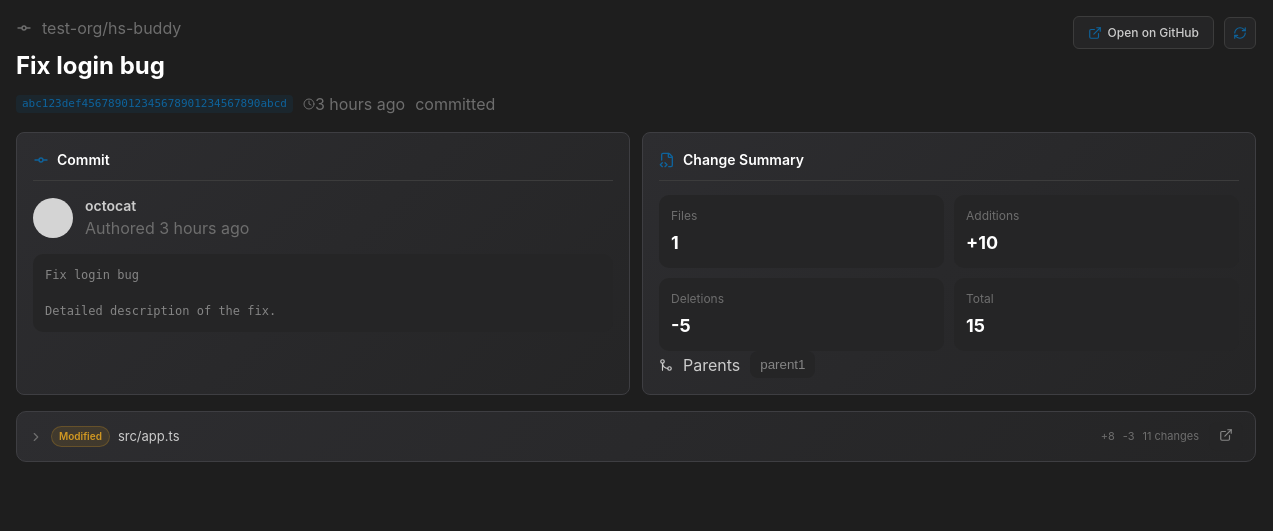
Test: RepoCommitDetailPanel › shows refreshing indicator when loading with existing detail
Check: the heading "Fix login bug" is shown, box [16,51,165,80]
Click the button titled "Refresh": [1240, 32] box [1224,16,1256,48]
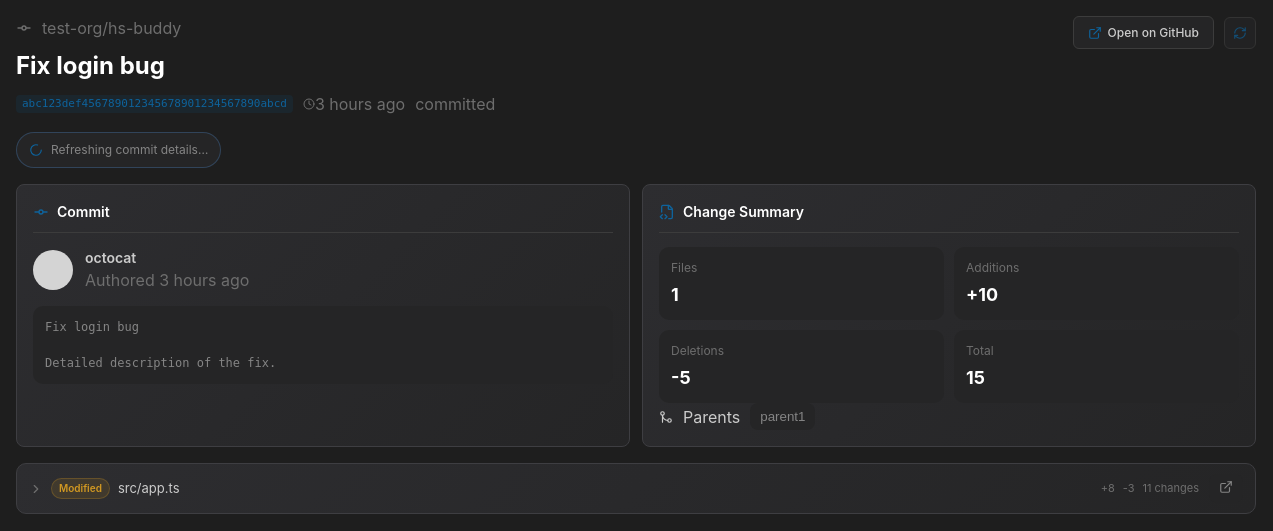
Check: the text "Refreshing commit details…" is shown, box [51,141,208,159]
